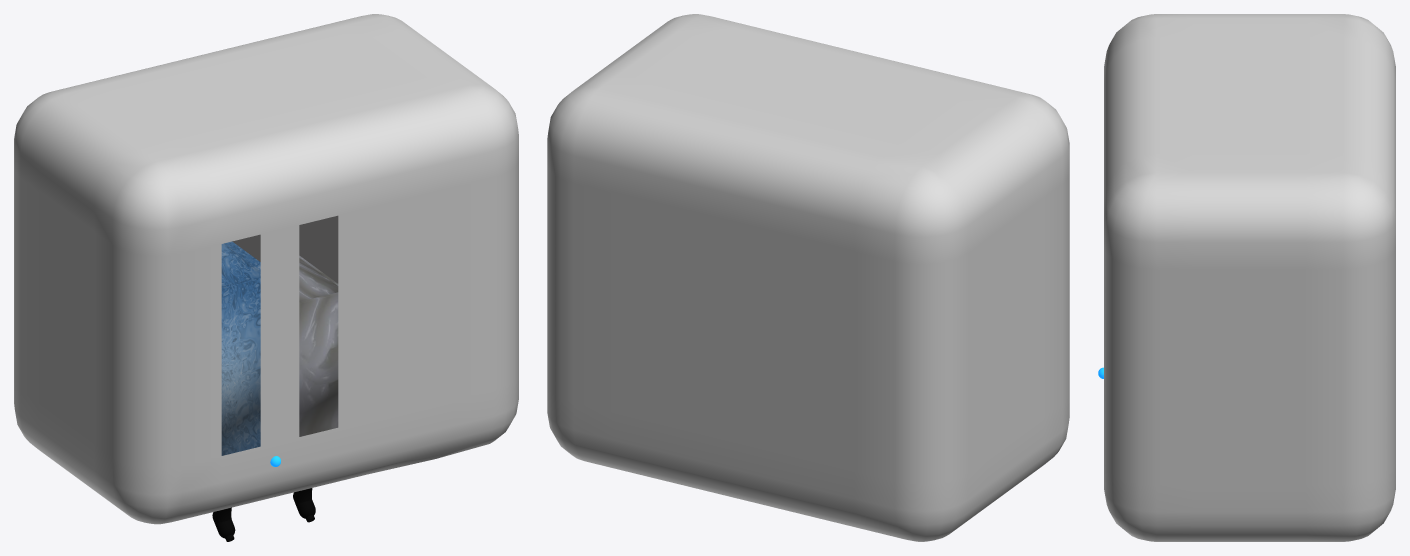
Rendered from handsanitiser.glb.
3 views of the same model, side by side, from view 1: azimuth 30°, elevation 25°; view 2: azimuth 150°, elevation 25°; view 3: azimuth 270°, elevation 25° (orthographic). The views are drawn at different scales.
Visible parts, largest first — view 1: 3DSMeshMatrix.005, 3DSMeshMatrix.006, 3DSMeshMatrix.068, 3DSMeshMatrix.070, 3DSMeshMatrix.003, 3DSMeshMatrix.067, 3DSMeshMatrix.069; view 2: 3DSMeshMatrix.005; view 3: 3DSMeshMatrix.005.
Boxes of the visible parts, x1,y1,x2,y2 form: 3DSMeshMatrix.005: [14, 14, 518, 524]; 3DSMeshMatrix.006: [222, 216, 337, 455]; 3DSMeshMatrix.068: [221, 241, 260, 455]; 3DSMeshMatrix.070: [299, 255, 338, 436]; 3DSMeshMatrix.003: [299, 215, 338, 283]; 3DSMeshMatrix.067: [221, 243, 260, 287]; 3DSMeshMatrix.069: [299, 258, 338, 301]; 3DSMeshMatrix.005: [547, 14, 1069, 541]; 3DSMeshMatrix.005: [1104, 14, 1395, 541].
Size of the model in its own units: 153 by 140 by 97.18.
6 materials, 2 textured.
